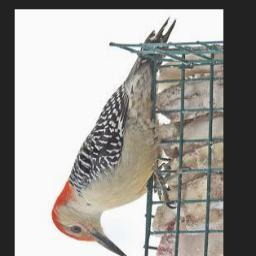Woodpecker: (51, 15, 178, 256)
